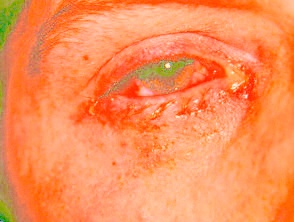SJS-TEN: (74, 30, 278, 159)
